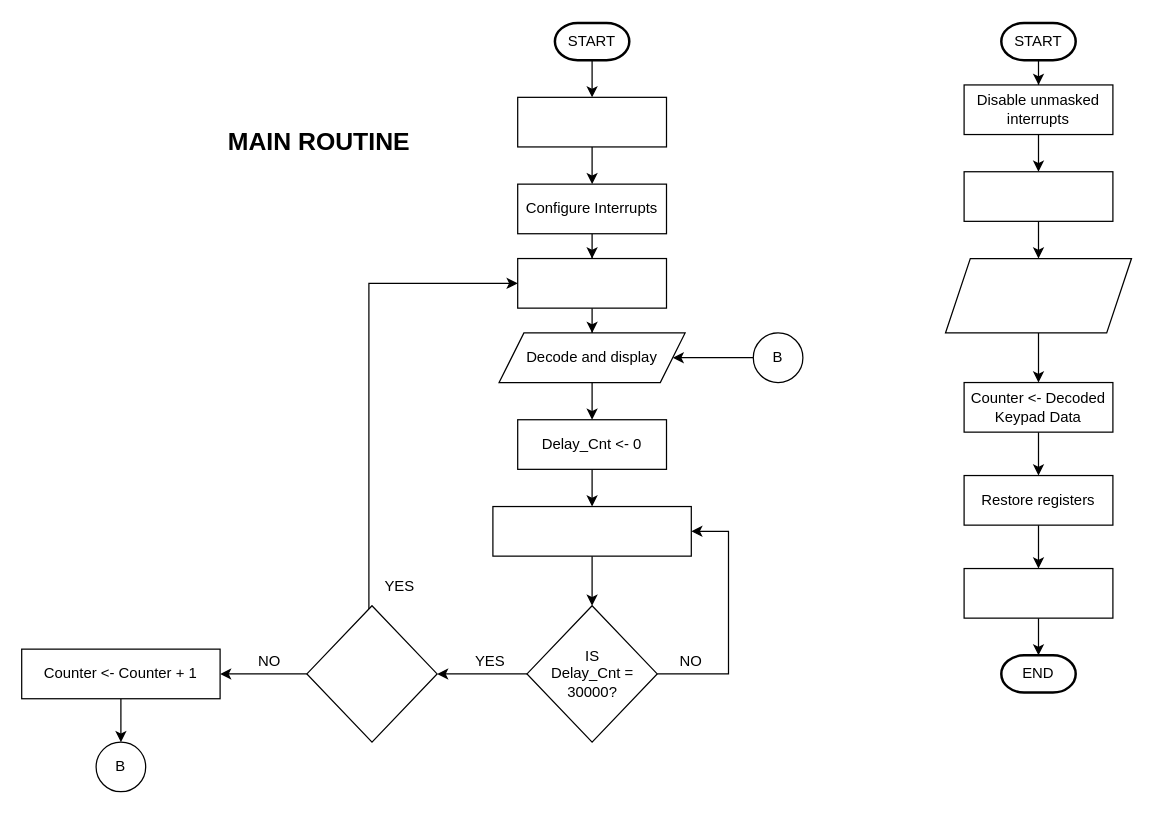
Some shapes in this 1153 by 813 pixel diagram are drawn without their labels. Here are the shapes that lost their labels. From the top down, the centre of each, then its label:
(591,121): Configure I/O Parts
(1038,195): Save registers
(591,282): Counter <- 0
(1038,295): Read 4-bit data from 74c922
(591,530): Delay_Cnt <- Delay_Cnt + 1
(1038,592): Enable unmasked interrupts
(371,673): IS Counter = 9?
